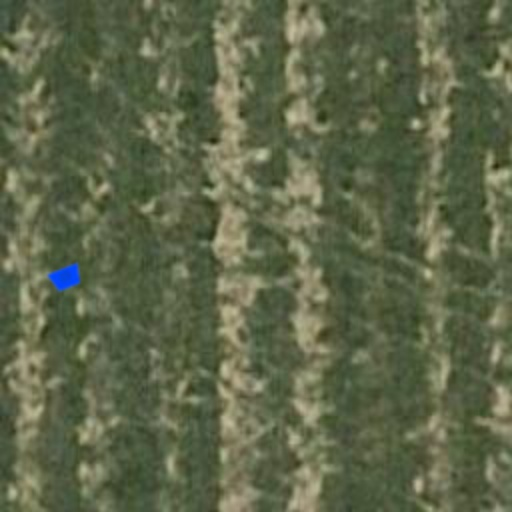trapezoid: (44, 256, 88, 300)
